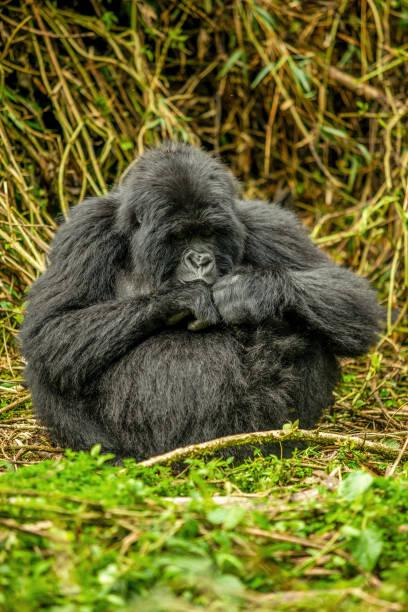goriile_montagne: (27, 97, 408, 516)
